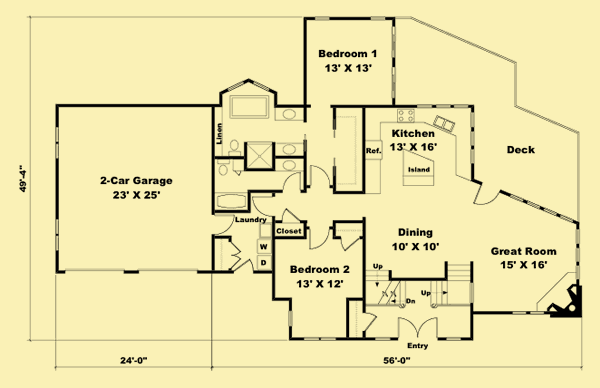door: (395, 315, 440, 341), (472, 183, 500, 208), (305, 226, 331, 251), (281, 171, 306, 196), (308, 164, 332, 190), (252, 193, 277, 217), (211, 213, 237, 236), (226, 240, 243, 272), (361, 311, 380, 334)
large_sink: (214, 158, 234, 179), (224, 137, 244, 157)
small_sink: (274, 139, 304, 158), (276, 105, 306, 123)
stairs: (421, 261, 474, 308), (362, 263, 409, 308)
tub: (227, 92, 273, 121), (214, 192, 250, 212)
twin_sink: (431, 113, 456, 135)
